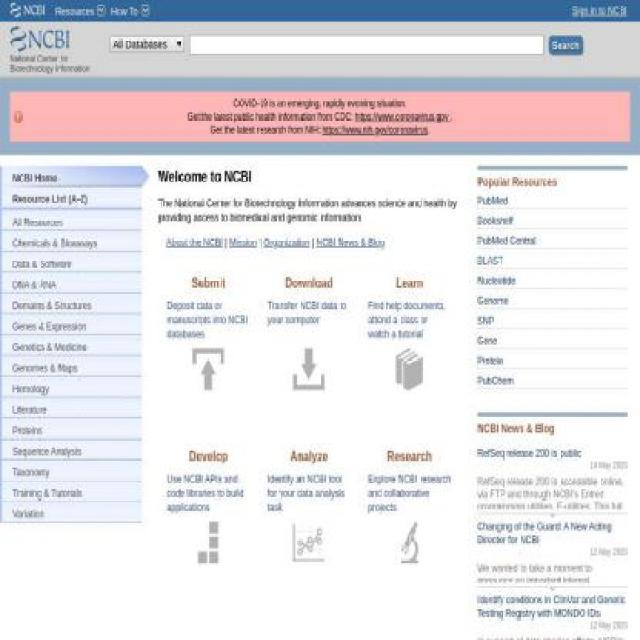button: (11, 188, 158, 210), (11, 232, 158, 254), (11, 253, 158, 275), (11, 295, 158, 317), (11, 316, 158, 338), (11, 378, 158, 400), (11, 399, 158, 421), (11, 420, 158, 442), (11, 482, 158, 504), (11, 503, 158, 525), (11, 168, 158, 189), (11, 212, 158, 233), (11, 274, 158, 295), (11, 337, 158, 358), (11, 358, 158, 379), (11, 441, 158, 462), (11, 462, 158, 483), (55, 0, 107, 22), (10, 0, 52, 22), (111, 0, 151, 22), (548, 36, 584, 56), (158, 165, 159, 167)
field: (191, 36, 531, 52), (109, 35, 185, 53)
